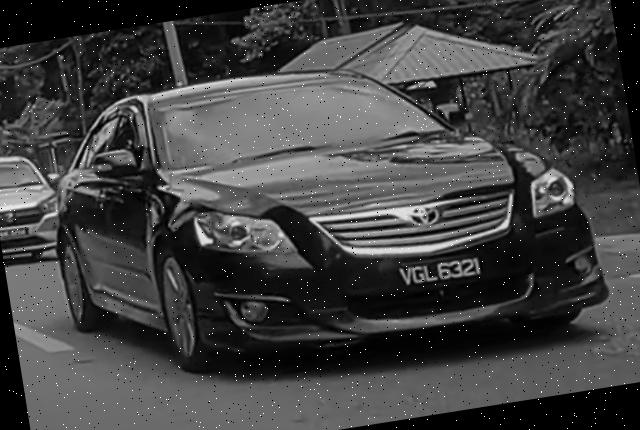License_Plate: (396, 257, 484, 292)
car: (34, 25, 615, 407), (1, 146, 72, 267)
